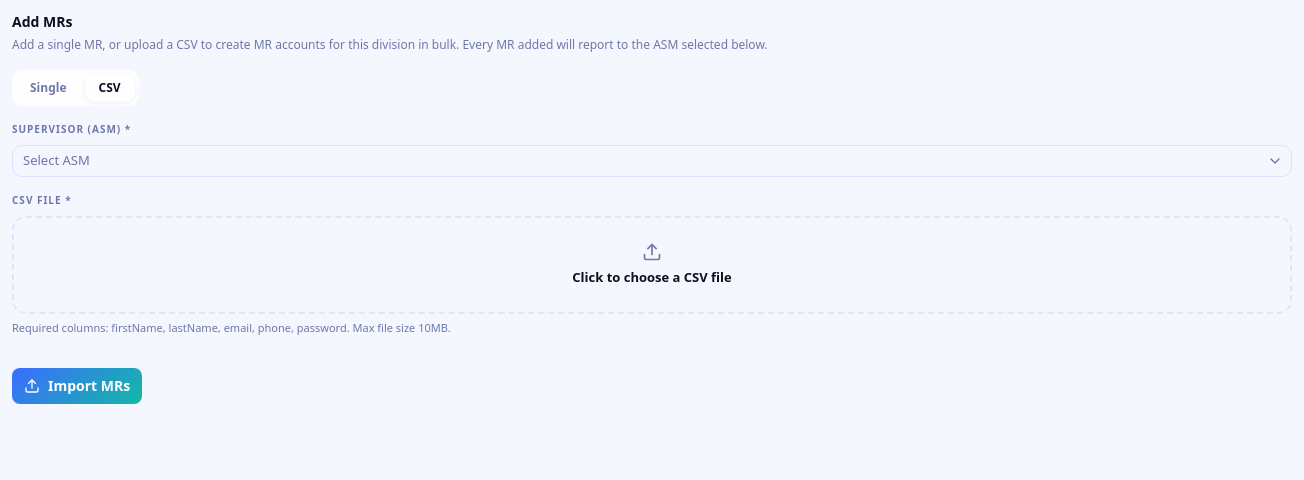
Test: MrProvisioningCard — single add › accepts a blank phone, and rejects a too-short phone with the real "characters" wording
Click the button "Single".
click(48, 88)  # box top-left (16, 74), bottom-right (80, 102)
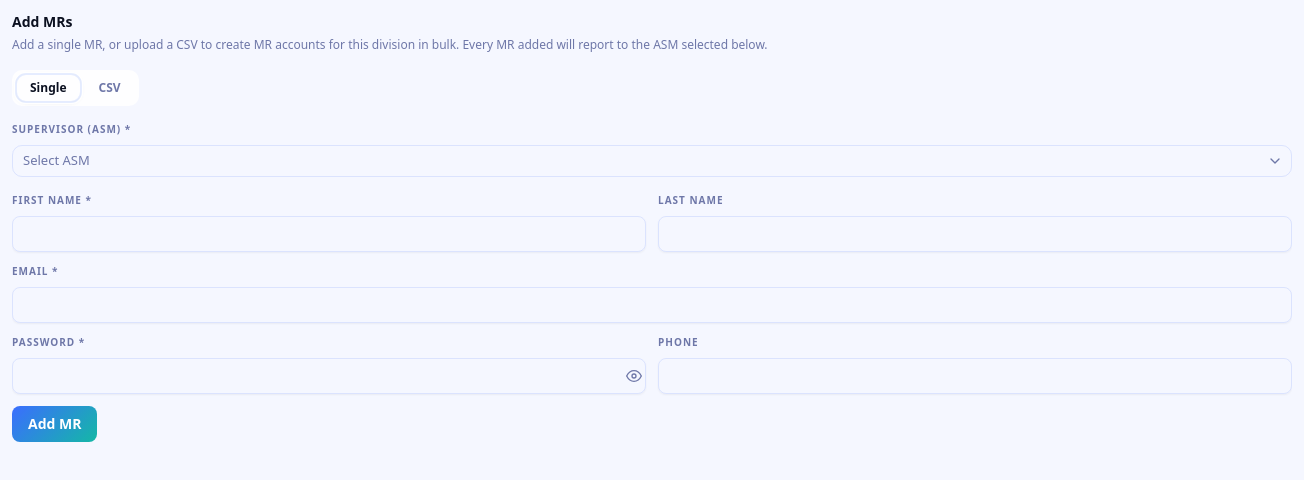
Click the dropdown named "supervisor (asm)".
click(56, 160)  # box top-left (12, 145), bottom-right (1292, 177)
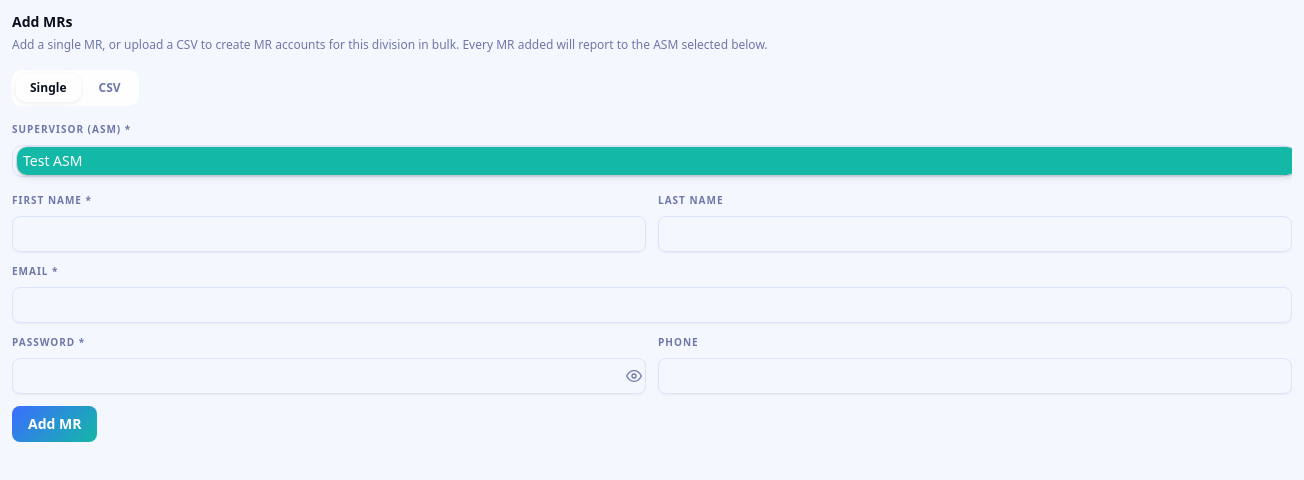
Click the option "Test ASM".
click(53, 160)  # box top-left (17, 147), bottom-right (1292, 175)
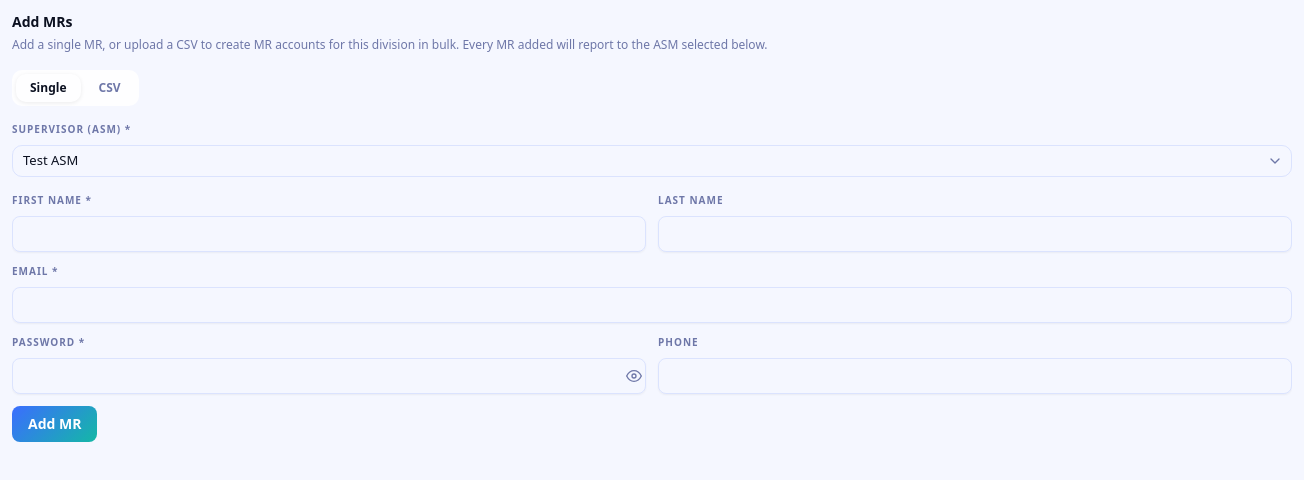
Type "Alice" into the field labelled "First name *".
click(329, 234); type("Alice")  # box top-left (12, 216), bottom-right (646, 252)
Type "alice@example.com" into the field labelled "Email *".
click(652, 305); type("alice@example.com")  # box top-left (12, 287), bottom-right (1292, 323)
Type "password1" into the password field labelled "Password *".
click(329, 376); type("password1")  # box top-left (12, 358), bottom-right (646, 394)
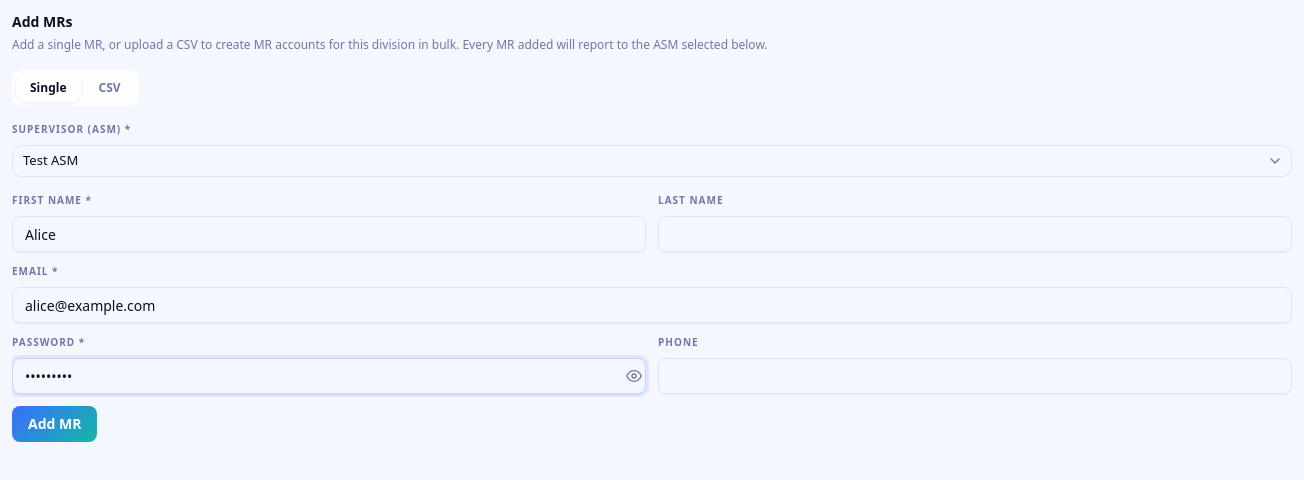
Type "123" into the field labelled "Phone".
click(975, 376); type("123")  # box top-left (658, 358), bottom-right (1292, 394)
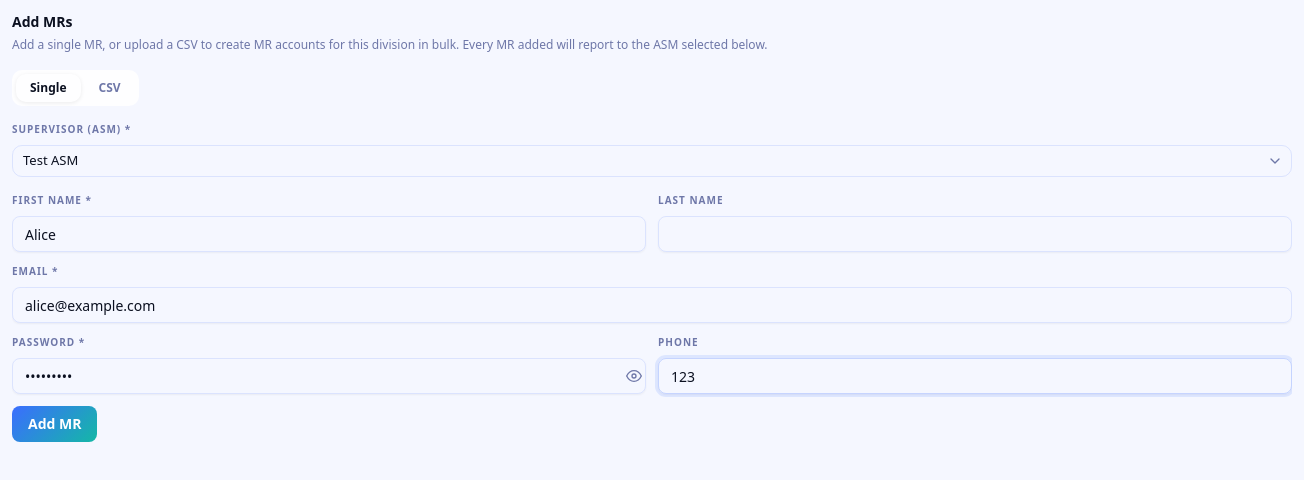
Click the button "Add MR".
click(55, 424)  # box top-left (12, 406), bottom-right (98, 442)
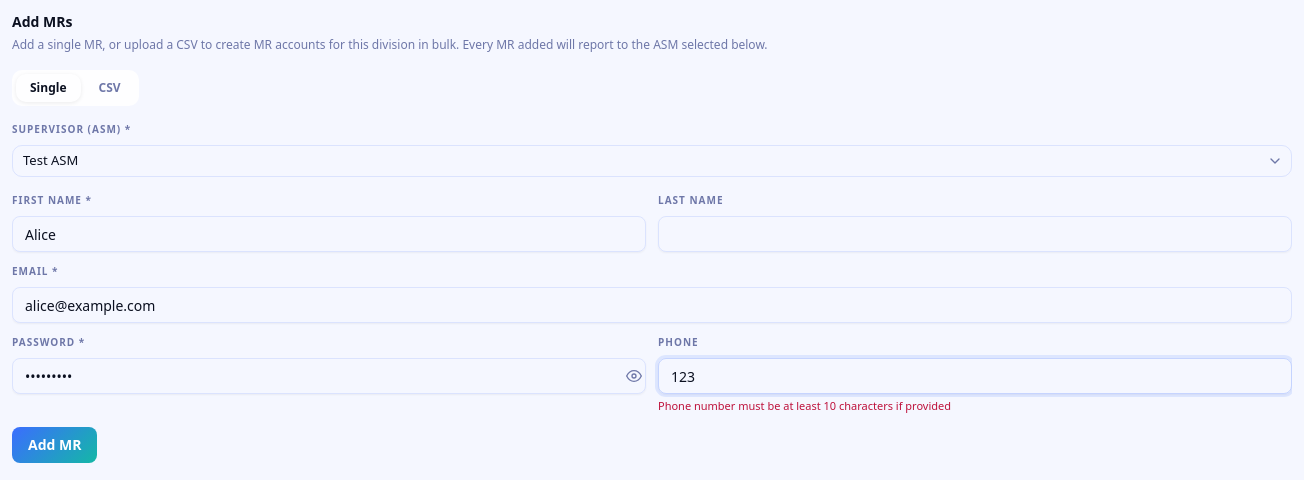
Expected: the text "Phone number must be at least 10 characters if provided" is shown, top-left (658, 398), bottom-right (951, 413)
